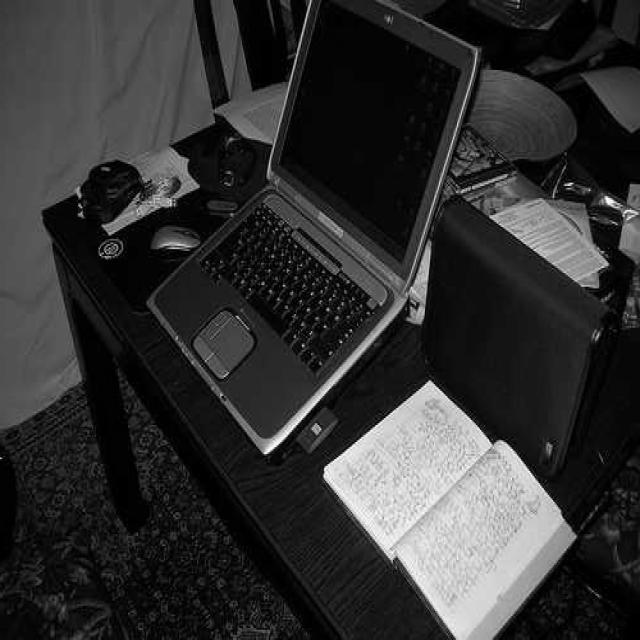laptop: (176, 55, 457, 362)
